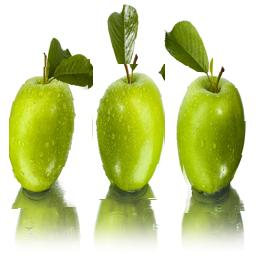Apple Fresh: (9, 60, 90, 210), (93, 65, 165, 201), (180, 73, 246, 214)
